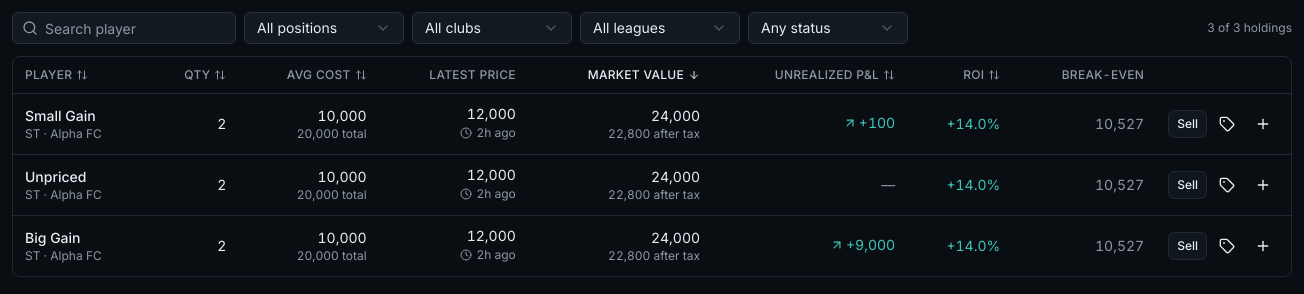
Test case: HoldingsTable › sorts by unrealized P&L with unpriced rows last
The image size is (1304, 294).
What coordinates should you click on to do the following:
click the button "Unrealized P&L"
I would click on:
 (835, 75)
Its box is [775, 67, 895, 83].
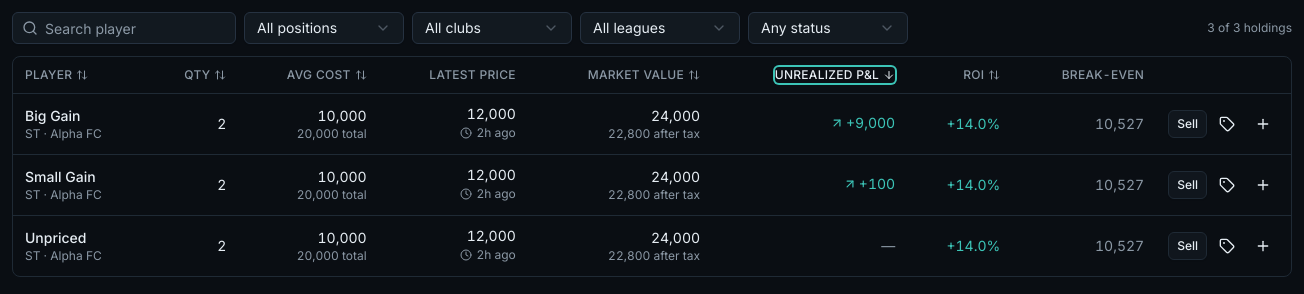
Expected: the row that starts with "Big Gain" is shown, [25, 106, 80, 124]
Result: the column heading "Unrealized P&L" has attribute aria-sort="descending" at [712, 57, 907, 93]
